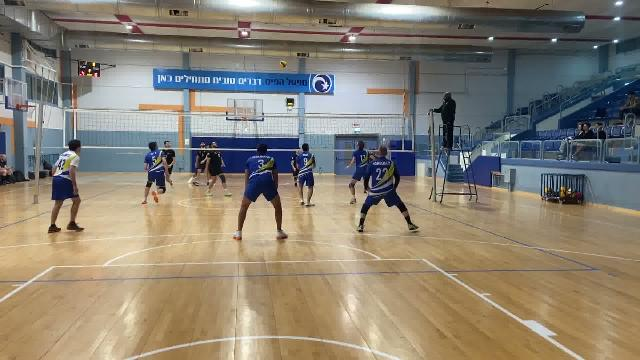ball: (278, 59, 289, 70)
